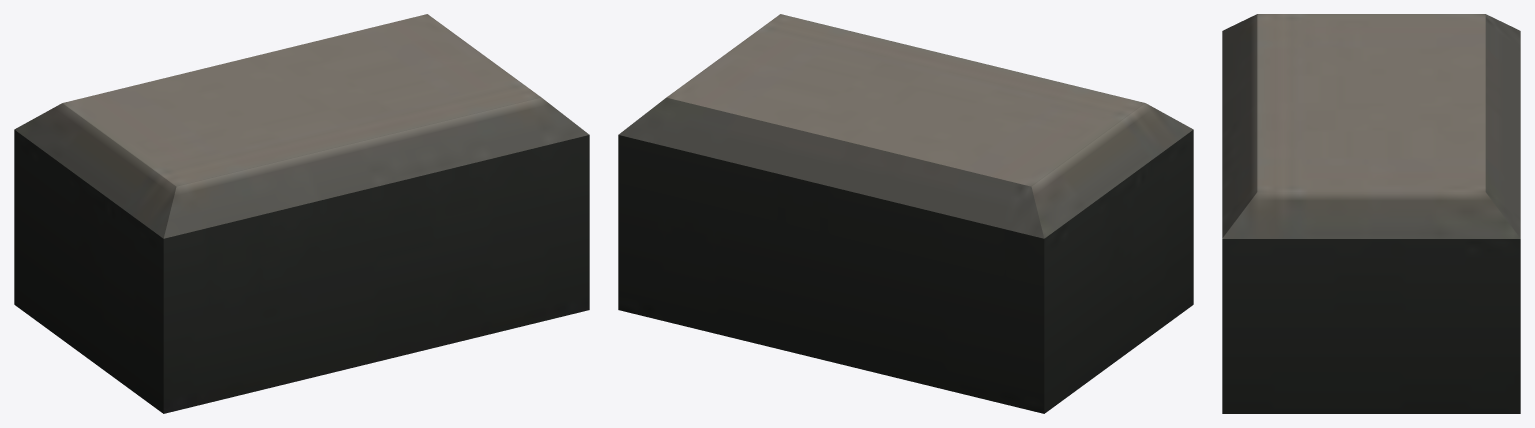
Rendered from steam-turbine.glb.
The picture shows the model from 3 angles, left to right: view 1: azimuth 30°, elevation 25°; view 2: azimuth 150°, elevation 25°; view 3: azimuth 270°, elevation 25°; orthographic projection.
Parts seen in each view (by area): view 1: steam-turbine; view 2: steam-turbine; view 3: steam-turbine.
Boxes of the visible parts, <box> form: steam-turbine: <box>14,14,589,413</box>; steam-turbine: <box>618,14,1193,413</box>; steam-turbine: <box>1222,14,1520,413</box>.
Size of the model in its own units: 0.28 by 0.13 by 0.17.
1 material, 1 textured.
